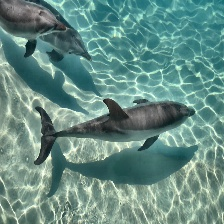dolphin: (33, 101, 211, 200)
